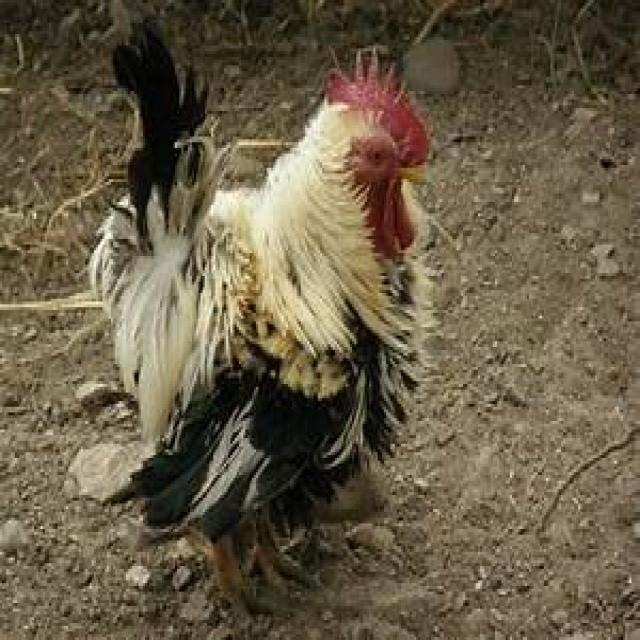hen: (85, 34, 431, 603)
